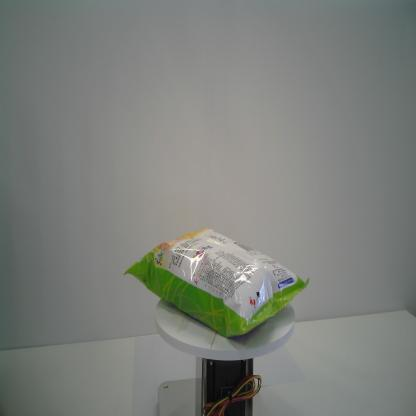Puffed Food: (122, 226, 310, 340)
